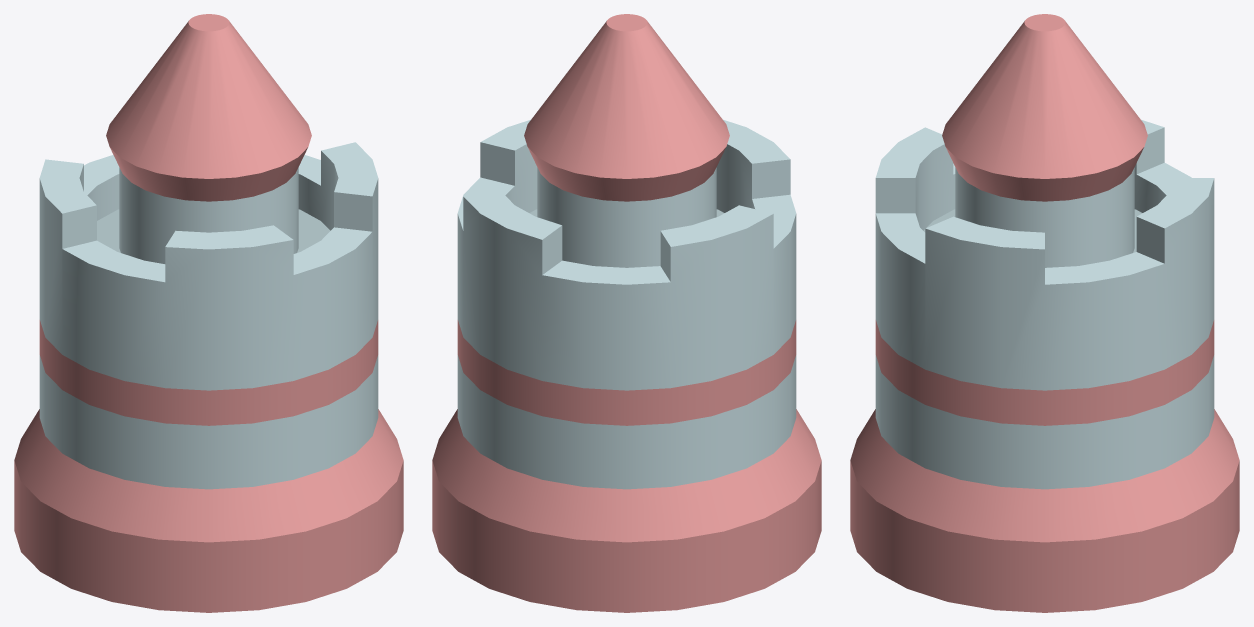
File: towerRound_sampleD.glb
The picture shows the model from 3 angles, left to right: view 1: azimuth 30°, elevation 25°; view 2: azimuth 150°, elevation 25°; view 3: azimuth 270°, elevation 25°; orthographic projection.
Visible parts, largest first — view 1: towerRound_sampleD; view 2: towerRound_sampleD; view 3: towerRound_sampleD.
Part boxes in pixels (x1=…): towerRound_sampleD: x1=14, y1=14, x2=403, y2=612; towerRound_sampleD: x1=432, y1=14, x2=821, y2=612; towerRound_sampleD: x1=850, y1=14, x2=1239, y2=612.
Size of the model in its own units: 1 by 1.44 by 1.
